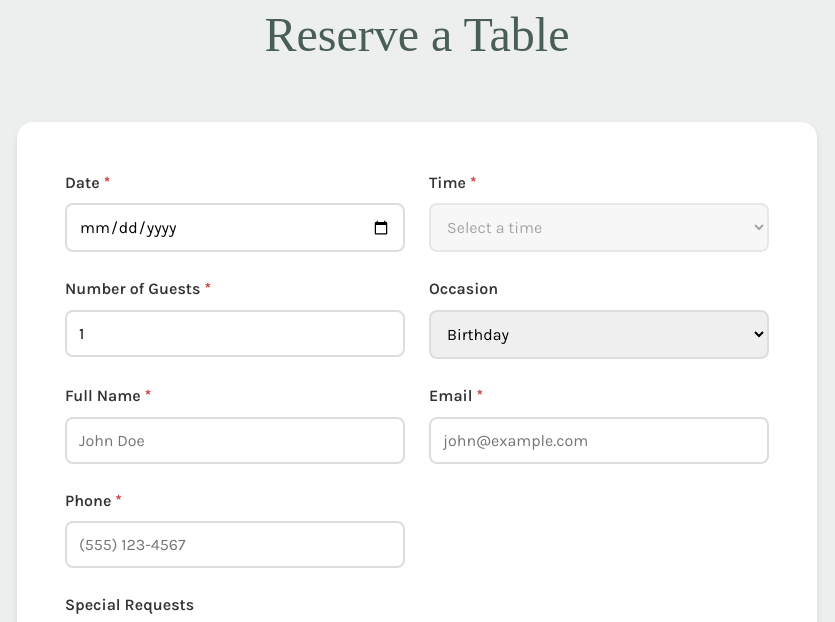
it: BookingForm Component › Form Validation › validates phone number format
The width and height of the screenshot is (835, 622).
In the field labelled "Phone *": (235, 545) [65,521,405,568], type "abc"
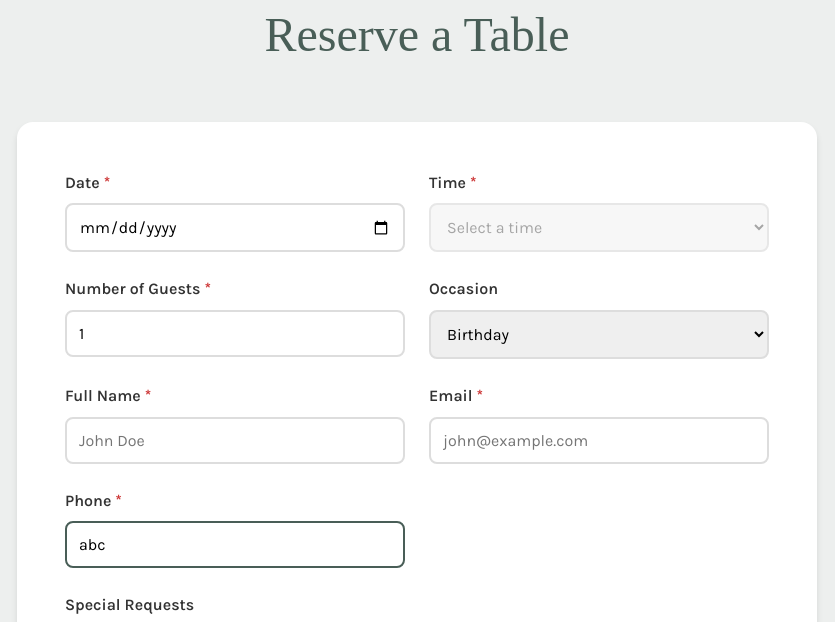
Leave the field labelled "Phone *", box [65,521,405,568]
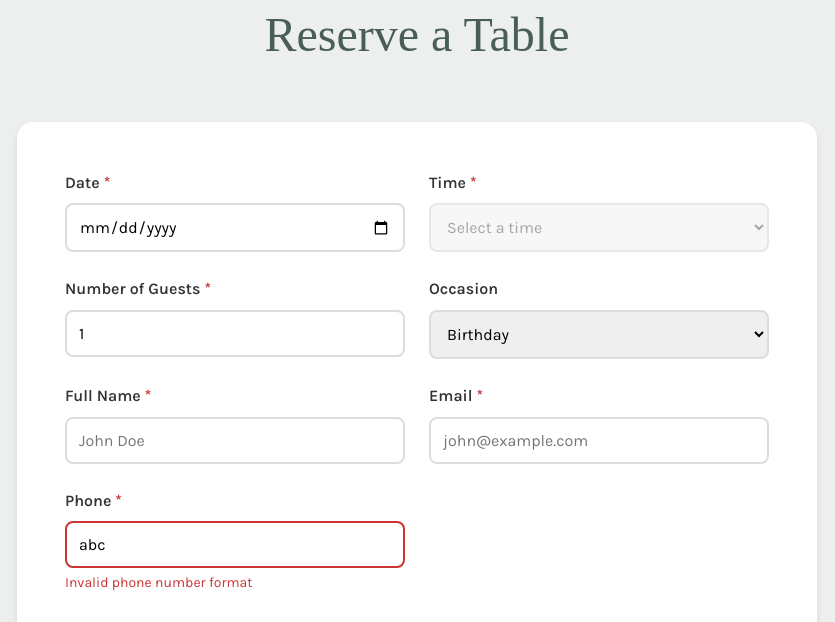
Result: the text "Invalid phone number format" is shown at [65,574,252,591]
